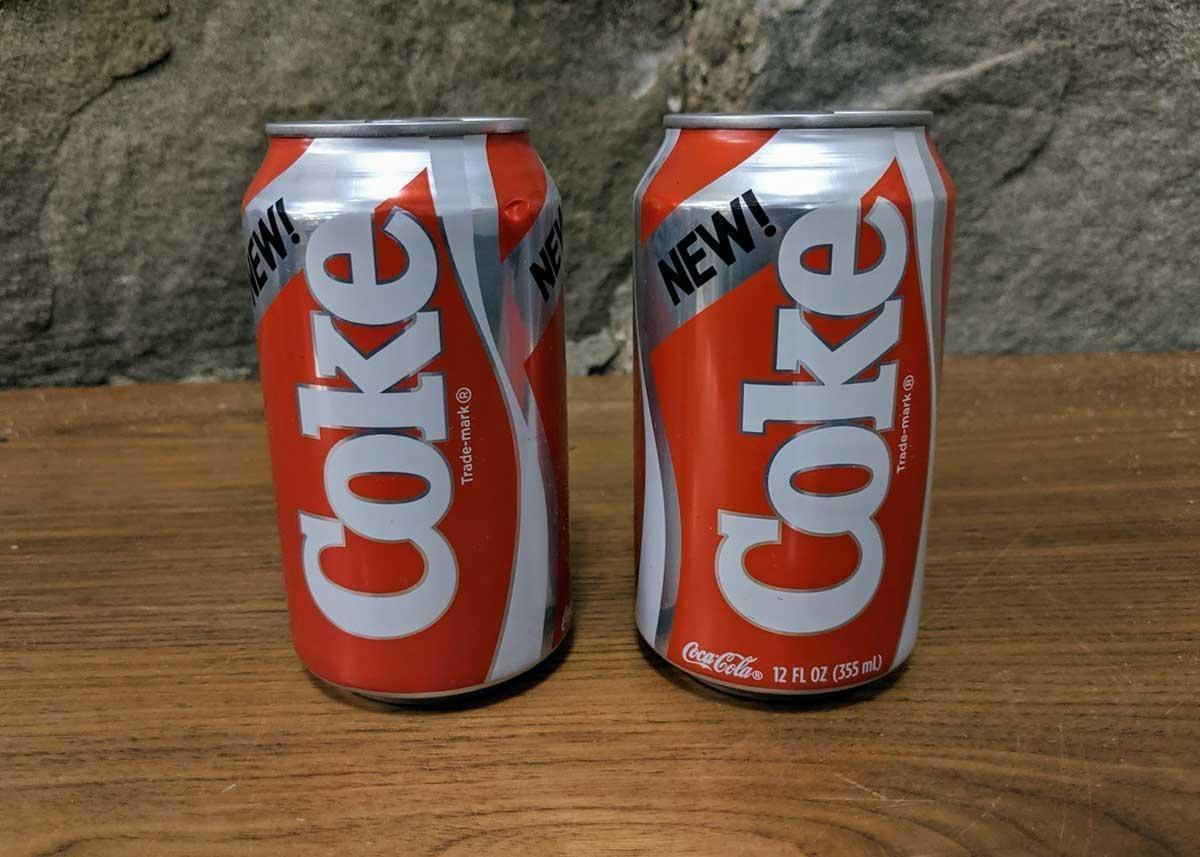tin can: (243, 114, 576, 707), (630, 101, 955, 707)
